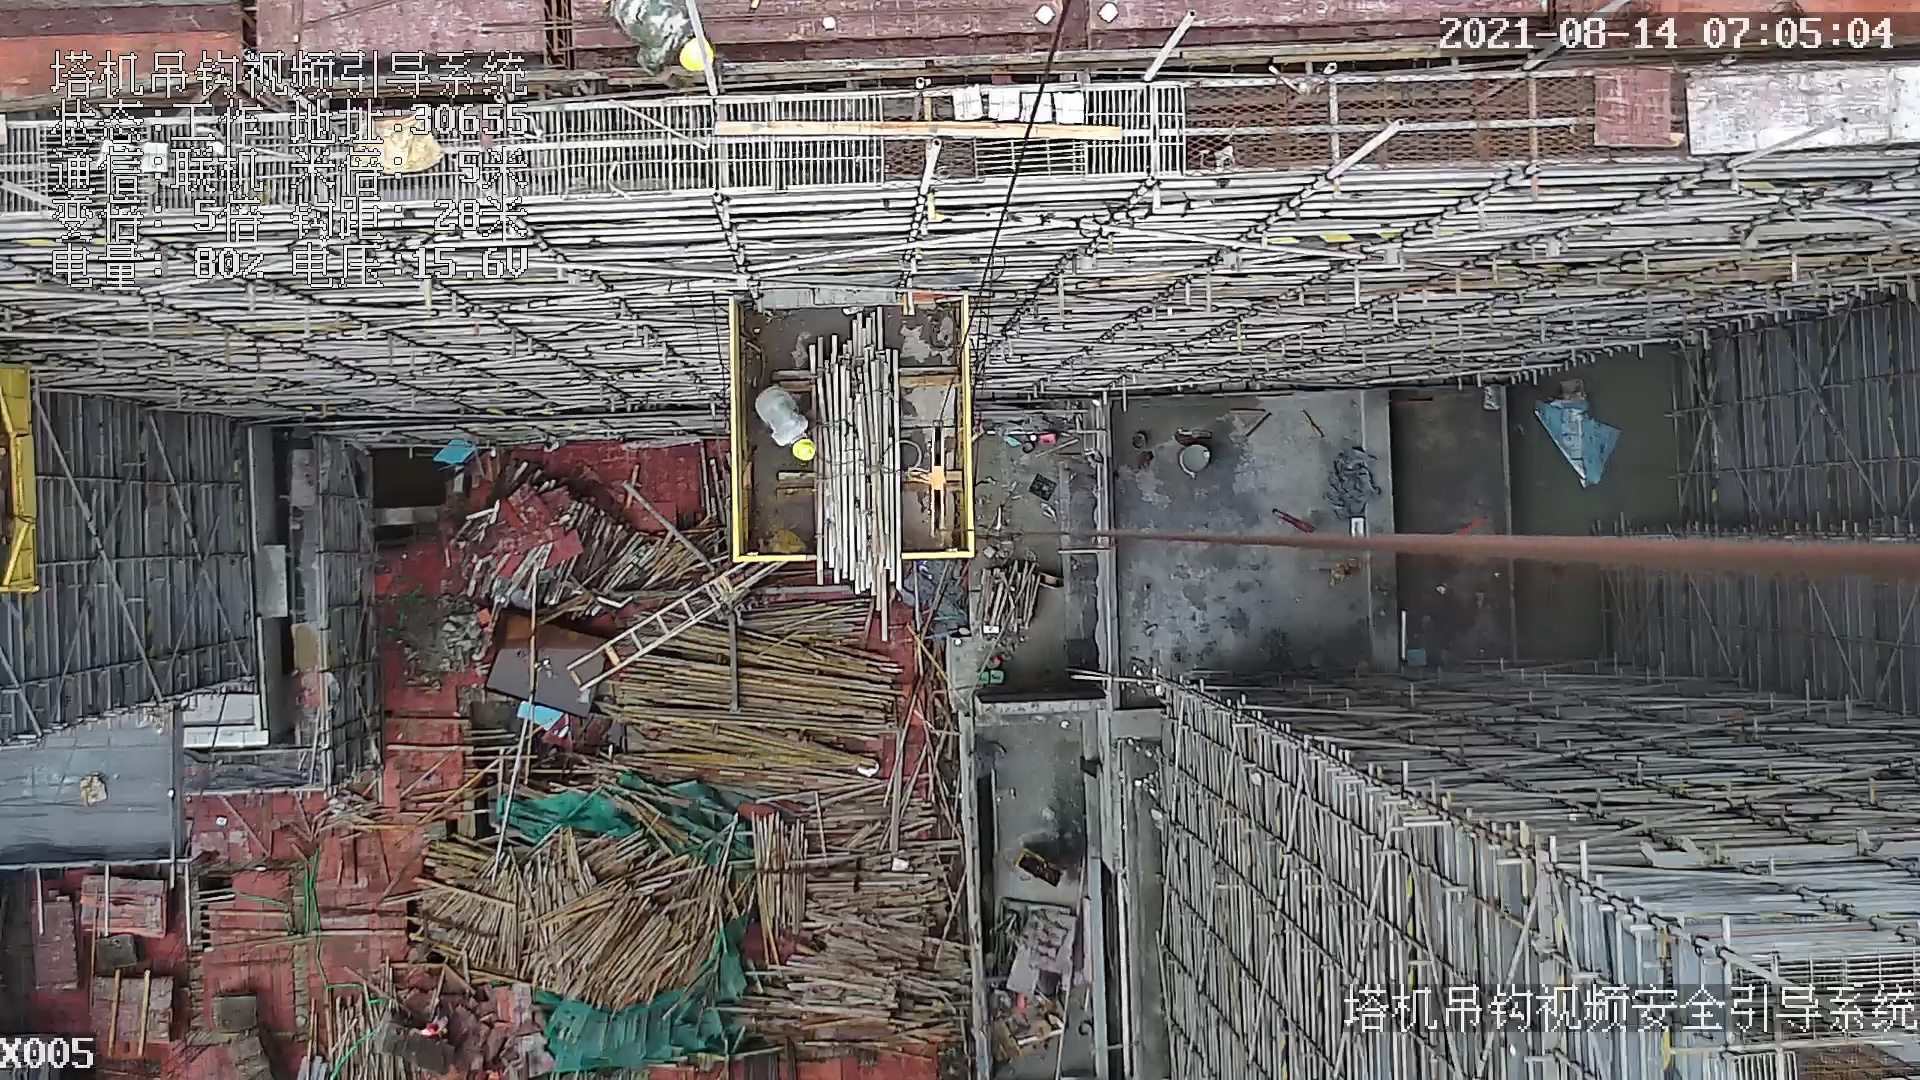helmet: (681, 38, 715, 74), (792, 436, 816, 462)
hook: (906, 415, 954, 541)
person: (597, 1, 719, 87), (760, 378, 823, 468)
